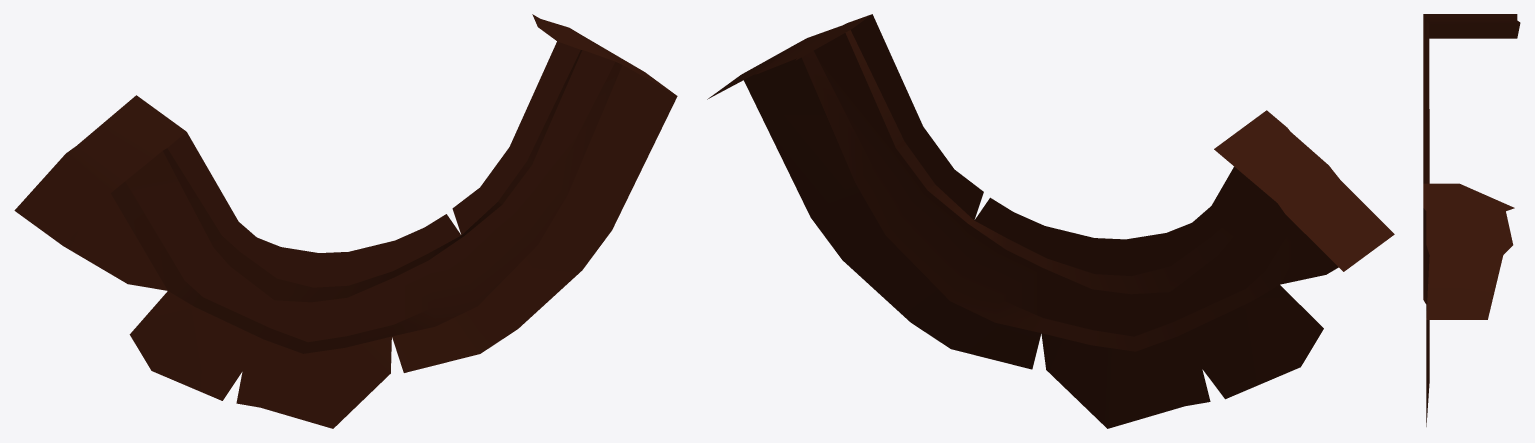
The model's file is Flag_RoundArch.obj.
The picture shows the model from 3 angles, left to right: view 1: azimuth 30°, elevation 25°; view 2: azimuth 150°, elevation 25°; view 3: azimuth 270°, elevation 25°; orthographic projection. The views are drawn at different scales.
Visible parts, largest first — view 1: Flag_RoundArch_Cylinder.001; view 2: Flag_RoundArch_Cylinder.001; view 3: Flag_RoundArch_Cylinder.001.
Part boxes in pixels (x1,y1,x2,y2): Flag_RoundArch_Cylinder.001: (14,14,677,428); Flag_RoundArch_Cylinder.001: (707,14,1394,428); Flag_RoundArch_Cylinder.001: (1423,14,1520,426).
Bounding box in the file's own units: 2.17 × 1.13 × 0.316.
